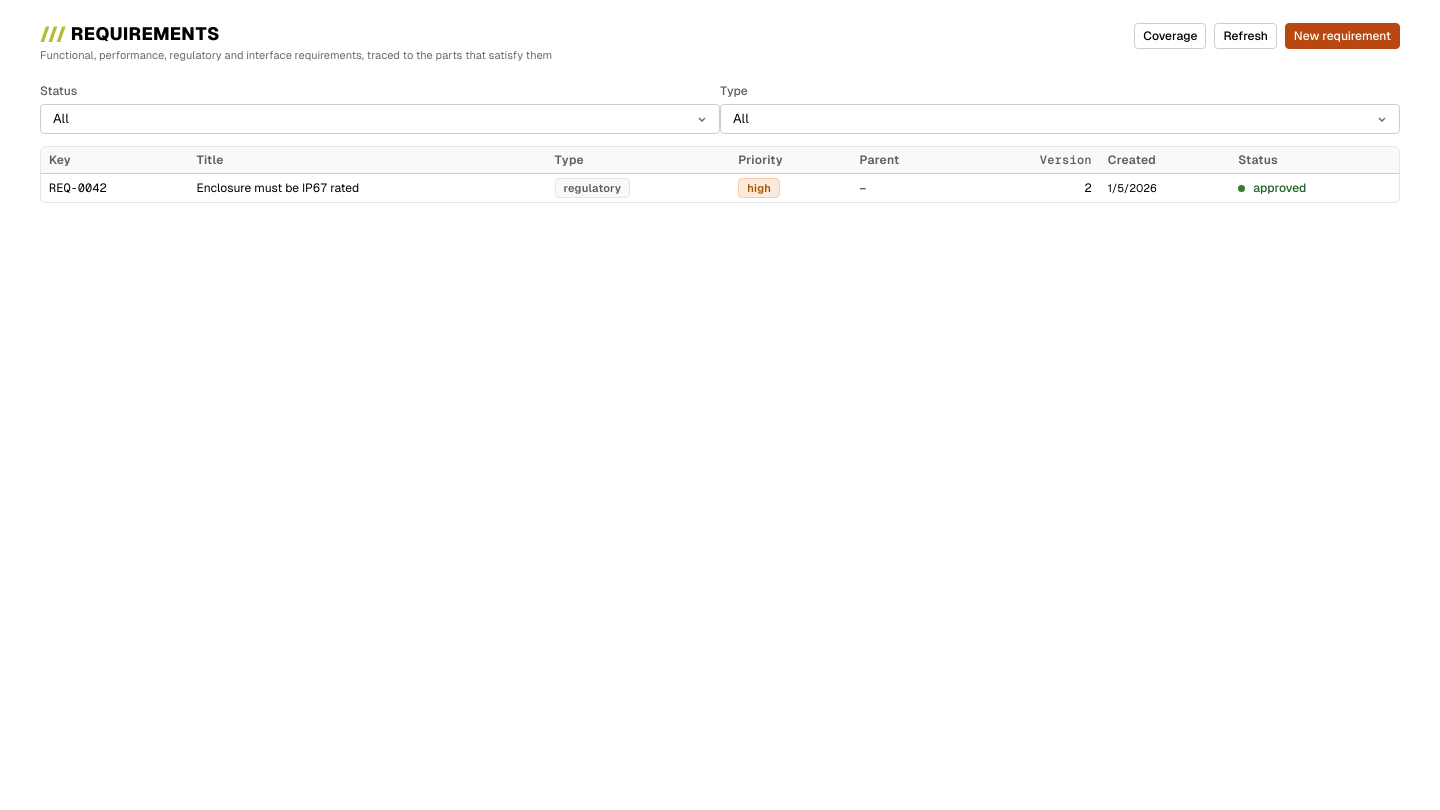
Scenario: RequirementsScreen › pages through uncovered requirements without implying the page is exhaustive
Expected: the text "REQ-0042" is shown, [49,181,107,195]
Click the button "Coverage". click: (1170, 36)
box: [1134,23,1206,49]
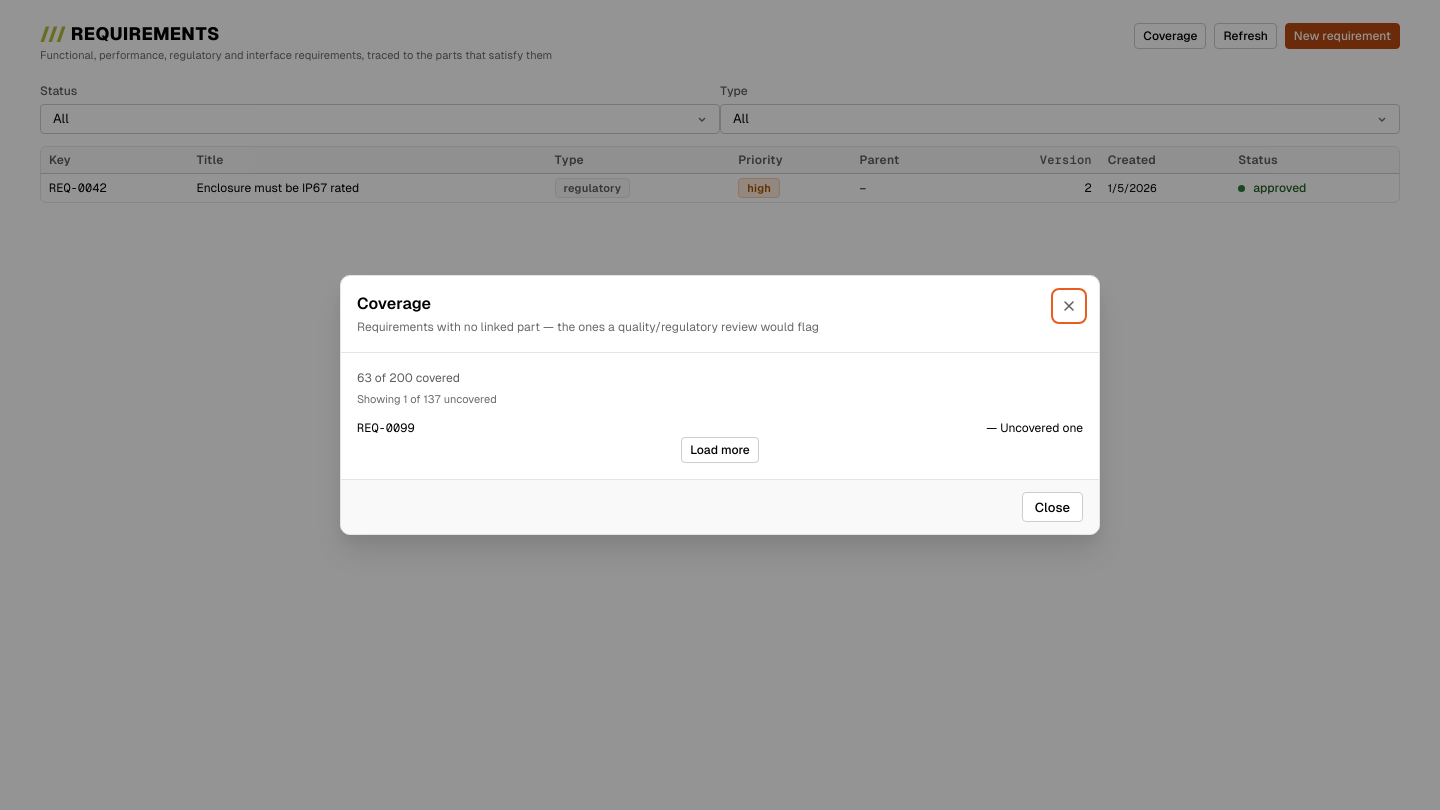
Expected: the text "Showing 1 of 137 uncovered" is shown, [357,393,497,405]
Click the button "Load more". click: (720, 450)
box: [681,437,759,463]
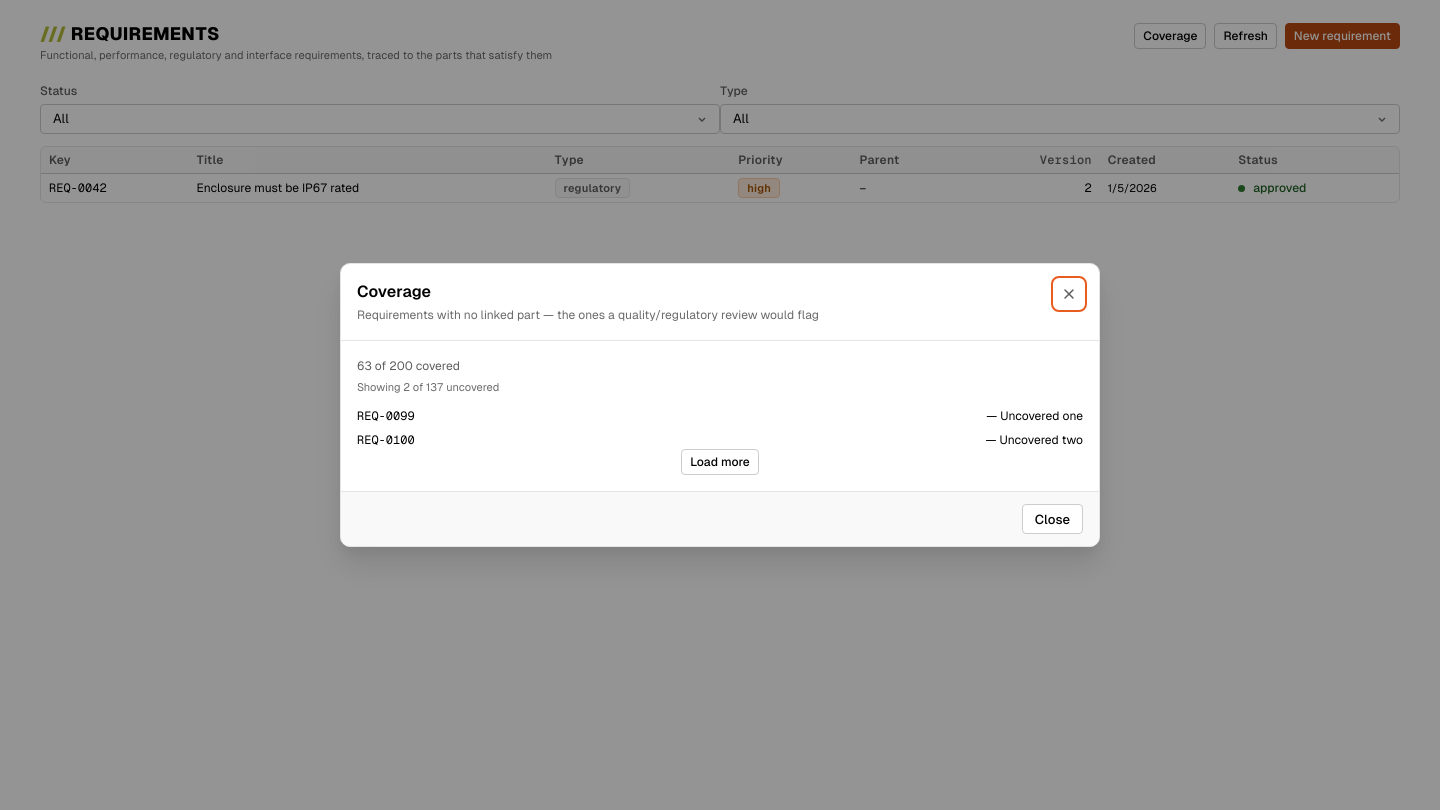
Expected: the text "REQ-0099" is shown, [357,407,415,425]
Expected: the text "REQ-0100" is shown, [357,431,415,449]
Expected: the text "Showing 2 of 137 uncovered" is shown, [357,381,499,393]
